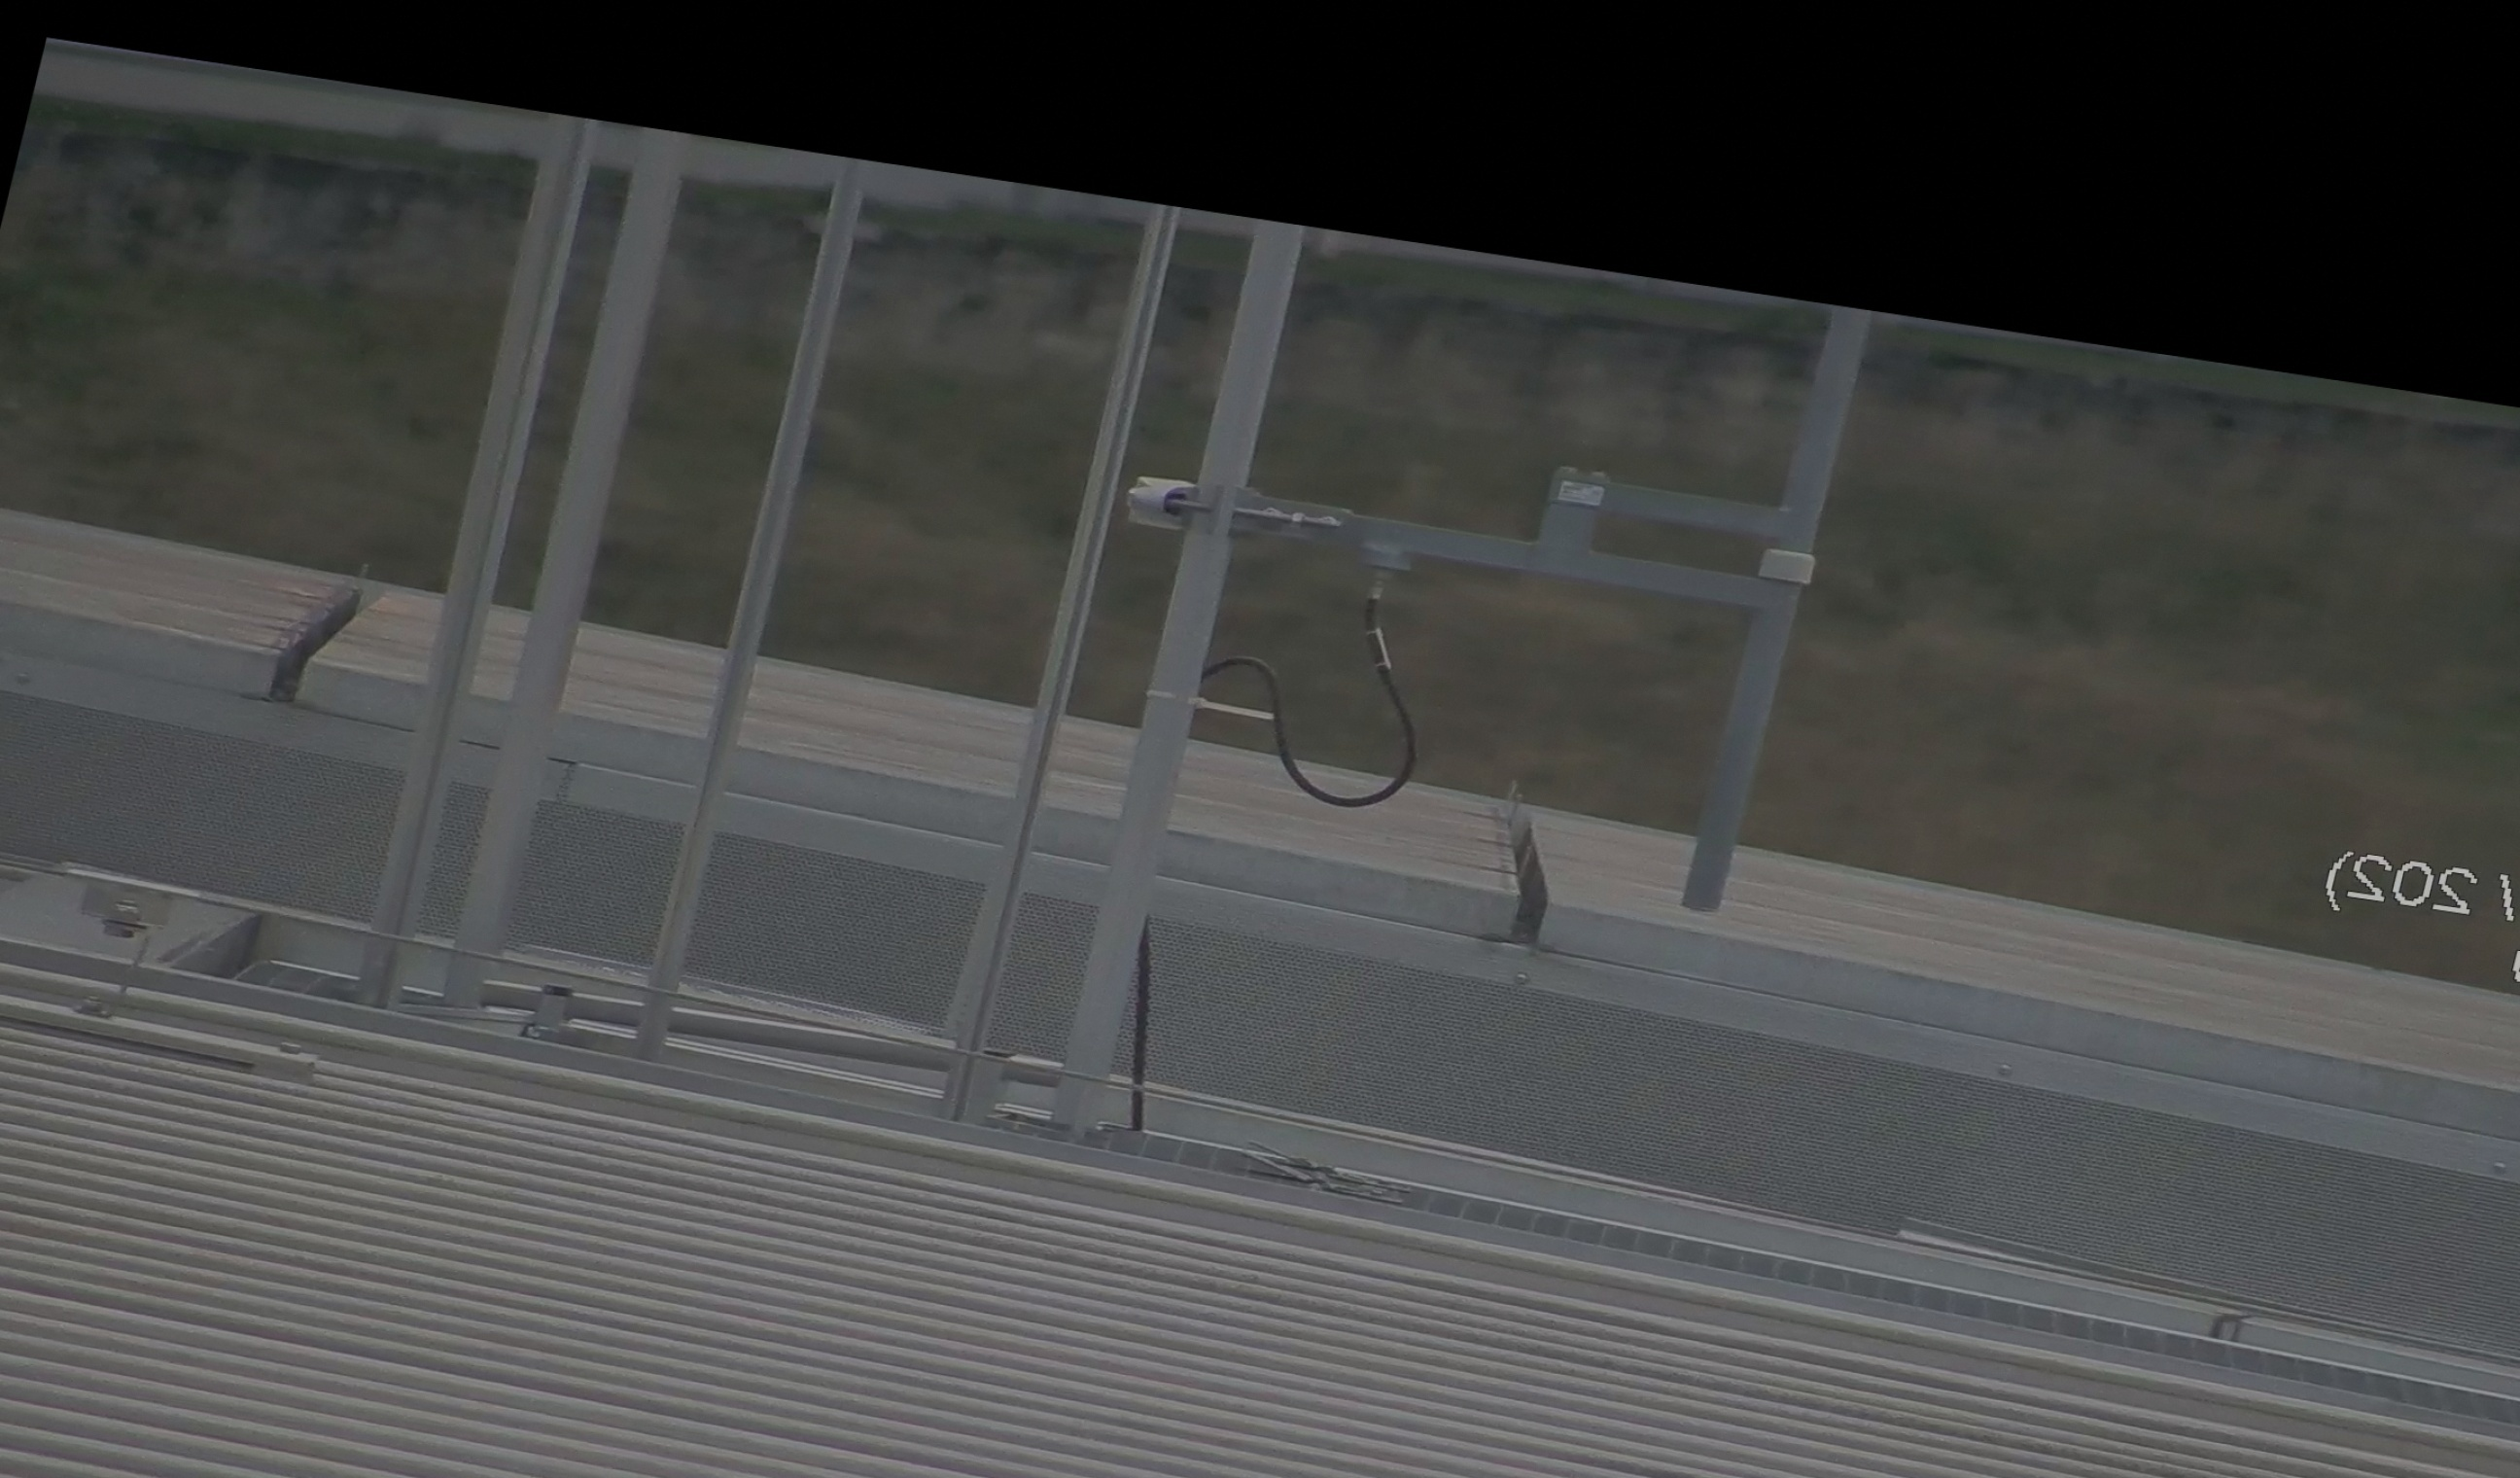Other: (232, 552, 385, 716)
